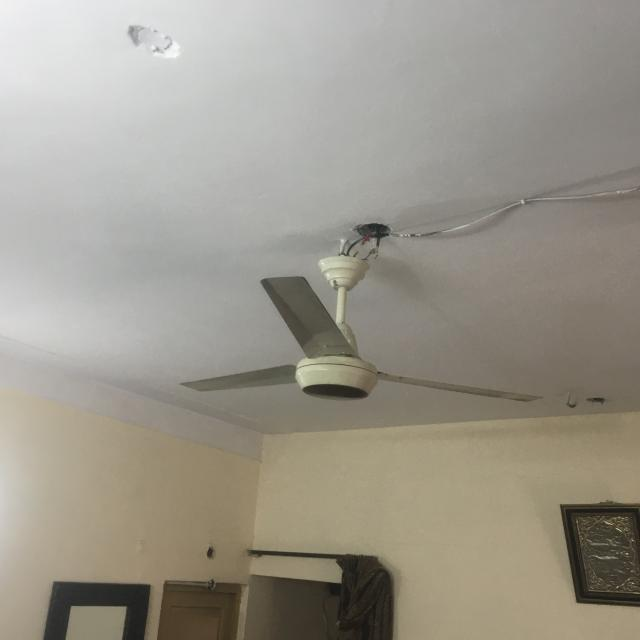off: (172, 274, 551, 413)
